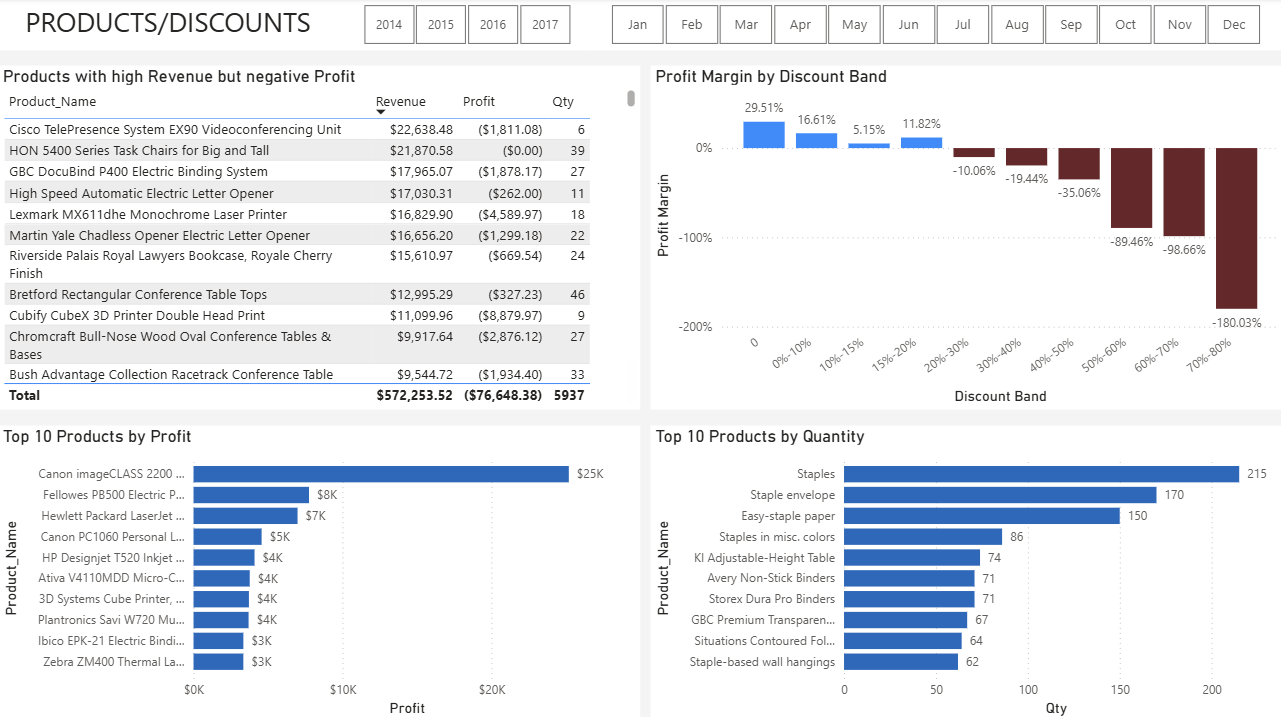

This screenshot's page, from the dashboard's own definition file:
{"tool":"powerbi","page":{"name":"PRODUCTS/DISCOUNTS","canvas":[1280,720],"ordinal":5},"visuals":[{"type":"textbox","box":[0,0,338.4,52.2],"z":0},{"type":"slicer","fields":{"Values":["Date.MonthName"]},"box":[584.6,0,695.4,52.2],"z":1000},{"type":"slicer","fields":{"Values":["Date.Date Hierarchy.Year"]},"box":[338.4,0,255,52.2],"z":2000},{"type":"tableEx","title":"Products with high Revenue but negative Profit","fields":{"Values":["vw_CleanSuperstoreBI.Product_Name","Measures (2).Revenue","Measures (2).Profit","Measures (2).Qty"]},"box":[0,67.2,639.4,342.1],"z":3000},{"type":"clusteredColumnChart","fields":{"Category":["vw_CleanSuperstoreBI.Discount Band"],"Y":["Measures (2).Profit Margin"]},"box":[649.3,67.2,630.7,342.1],"z":4000},{"type":"clusteredBarChart","title":"Top 10 Products by Profit","fields":{"Y":["Measures (2).Profit"],"Category":["vw_CleanSuperstoreBI.Product_Name"]},"box":[0,425.4,639.4,294.8],"z":5000},{"type":"clusteredBarChart","title":"Top 10 Products by Quantity","fields":{"Category":["vw_CleanSuperstoreBI.Product_Name"],"Y":["Measures (2).Qty"]},"box":[649.3,425.4,630.7,294.8],"z":6000}]}

Visuals, with their boxes in screenshot pixels (x1, y1, x2, y2), scaled from the page's 1280x720 canvas onto the 1281x717 screenshot:
textbox: 0:0:339:52
slicer - Date.MonthName: 585:0:1280:52
slicer - Date.Date Hierarchy.Year: 339:0:594:52
"Products with high Revenue but negative Profit" tableEx: 0:67:640:408
clusteredColumnChart - vw_CleanSuperstoreBI.Discount Band x Measures (2).Profit Margin: 650:67:1280:408
"Top 10 Products by Profit" clusteredBarChart: 0:424:640:716
"Top 10 Products by Quantity" clusteredBarChart: 650:424:1280:716
